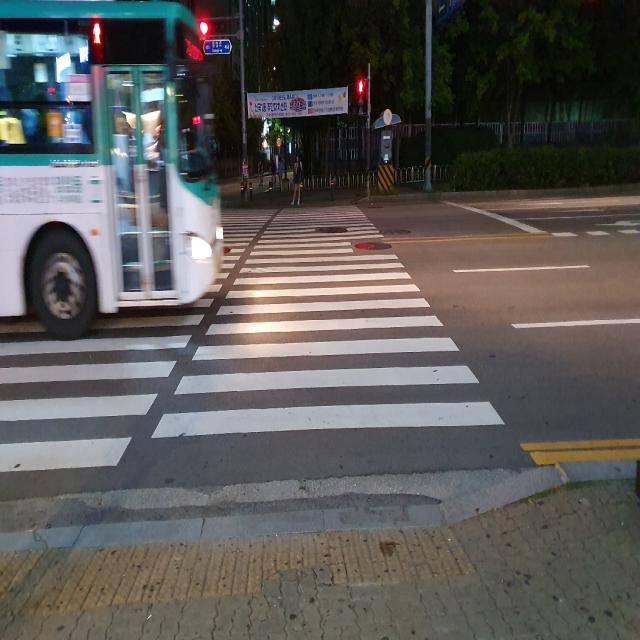빨간불: (357, 74, 367, 121)
횡단보도: (0, 202, 506, 475)
